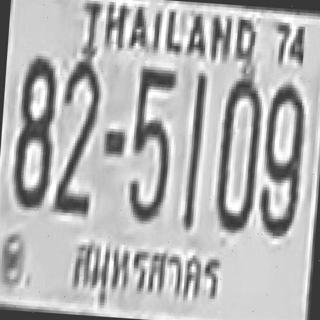N00: (215, 74, 264, 195)
N02: (54, 105, 96, 211)
N08: (12, 53, 61, 207)
N09: (255, 84, 305, 235)
P58: (64, 232, 228, 314)
